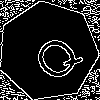Q: (23, 25, 86, 87)
